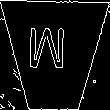M_S: (34, 30, 74, 81)
